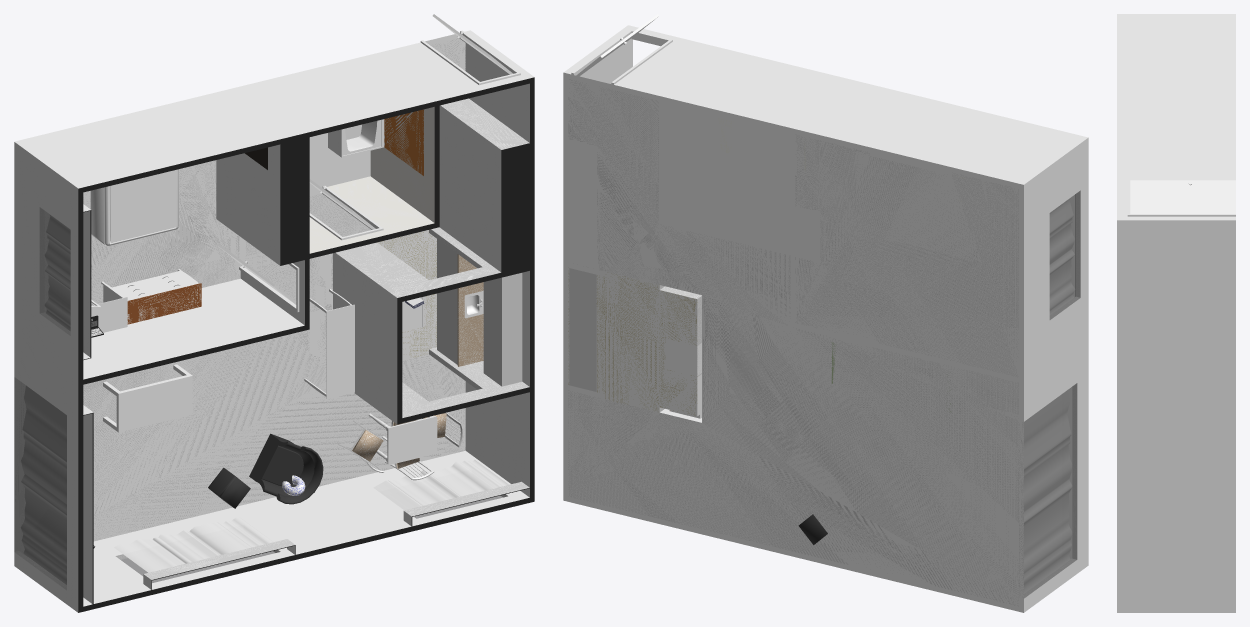
File: Apartment_env.dae
The picture shows the model from 3 angles, left to right: view 1: azimuth 30°, elevation 25°; view 2: azimuth 150°, elevation 25°; view 3: azimuth 270°, elevation 25°; orthographic projection. The views are drawn at different scales.
Visible parts, largest first — view 1: instance_0 (×25), group_5, group_3, image_6, group_4, instance_22, group_8 (×2), instance_62 (×2), instance_32, group_2, instance_26, image_11 (+9 smaller); view 2: instance_0 (×13), group_5, group_2, instance_23, instance_41; view 3: instance_0, instance_42, instance_41.
Part boxes in pixels (bbox=[...]): instance_0 (×25): bbox=[14, 30, 534, 612]; group_5: bbox=[21, 386, 66, 584]; group_3: bbox=[114, 516, 273, 572]; image_6: bbox=[110, 170, 176, 243]; group_4: bbox=[373, 459, 508, 517]; instance_22: bbox=[103, 364, 192, 432]; group_8 (×2): bbox=[249, 433, 323, 504]; instance_62 (×2): bbox=[113, 271, 201, 324]; instance_32: bbox=[304, 289, 354, 399]; group_2: bbox=[45, 215, 70, 330]; instance_26: bbox=[387, 416, 437, 464]; image_11: bbox=[216, 153, 267, 204]; instance_0 (×13): bbox=[563, 25, 1088, 612]; group_5: bbox=[1024, 390, 1071, 592]; group_2: bbox=[1050, 199, 1074, 314]; instance_23: bbox=[662, 369, 701, 415]; instance_41: bbox=[571, 29, 672, 90]; instance_0: bbox=[1117, 14, 1235, 612]; instance_42: bbox=[1130, 180, 1235, 213]; instance_41: bbox=[1127, 196, 1235, 216].
Size of the model in its own units: 370 by 90.03 by 348.
